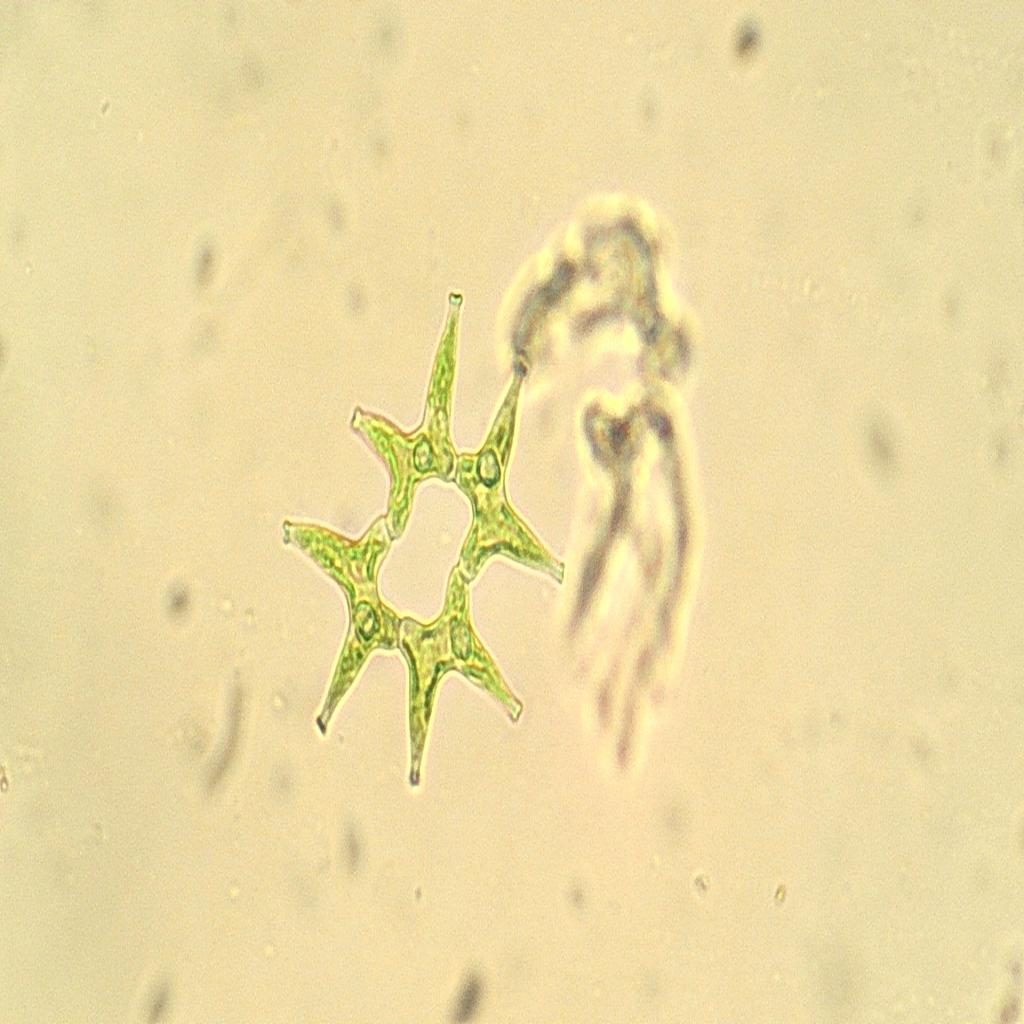Pediastrum_CO: (257, 287, 588, 815)
